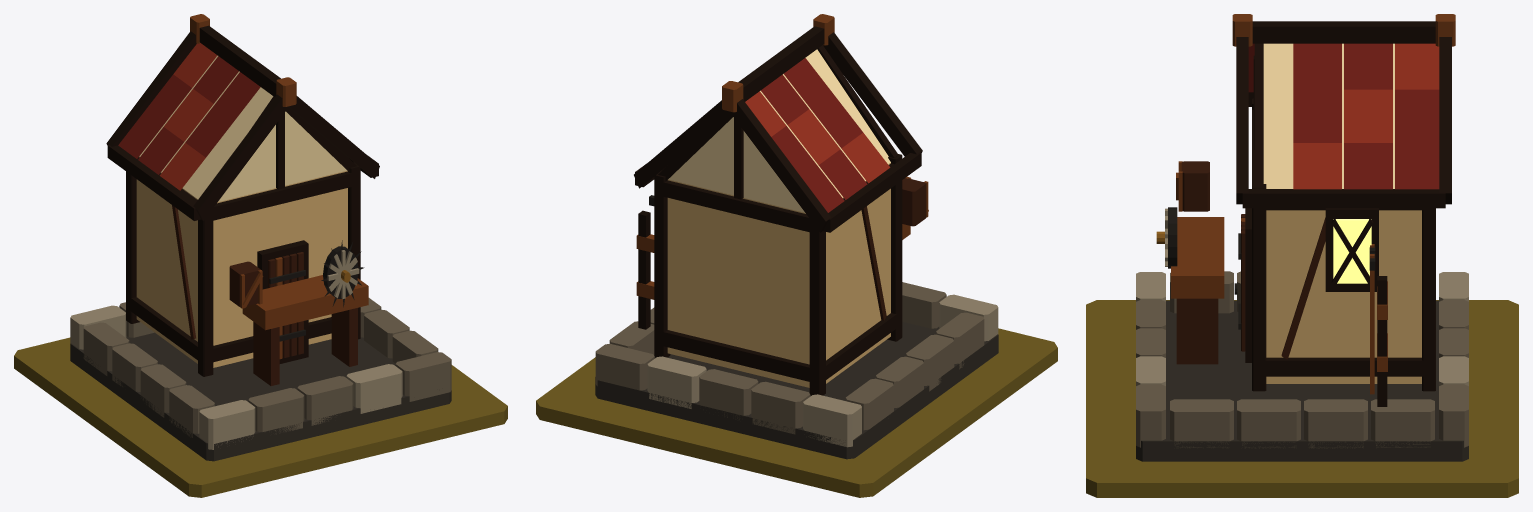
File: workshop_t1.glb
The picture shows the model from 3 angles, left to right: view 1: azimuth 30°, elevation 25°; view 2: azimuth 150°, elevation 25°; view 3: azimuth 270°, elevation 25°; orthographic projection. The views are drawn at different scales.
Visible parts, largest first — view 1: MMR | workshop | T01 Architecture.001, MMR | workshop | Tier 01 Ground.001; view 2: MMR | workshop | T01 Architecture.001, MMR | workshop | Tier 01 Ground.001; view 3: MMR | workshop | T01 Architecture.001, MMR | workshop | Tier 01 Ground.001.
Part boxes in pixels (x1,y1,x2,y2): MMR | workshop | T01 Architecture.001: (70,14,451,461); MMR | workshop | Tier 01 Ground.001: (14,337,507,497); MMR | workshop | T01 Architecture.001: (595,14,998,459); MMR | workshop | Tier 01 Ground.001: (536,328,1057,497); MMR | workshop | T01 Architecture.001: (1136,14,1468,461); MMR | workshop | Tier 01 Ground.001: (1086,300,1518,497).
Bounding box in the file's own units: 1.3 × 1.29 × 1.3.
2 materials, 1 textured.
